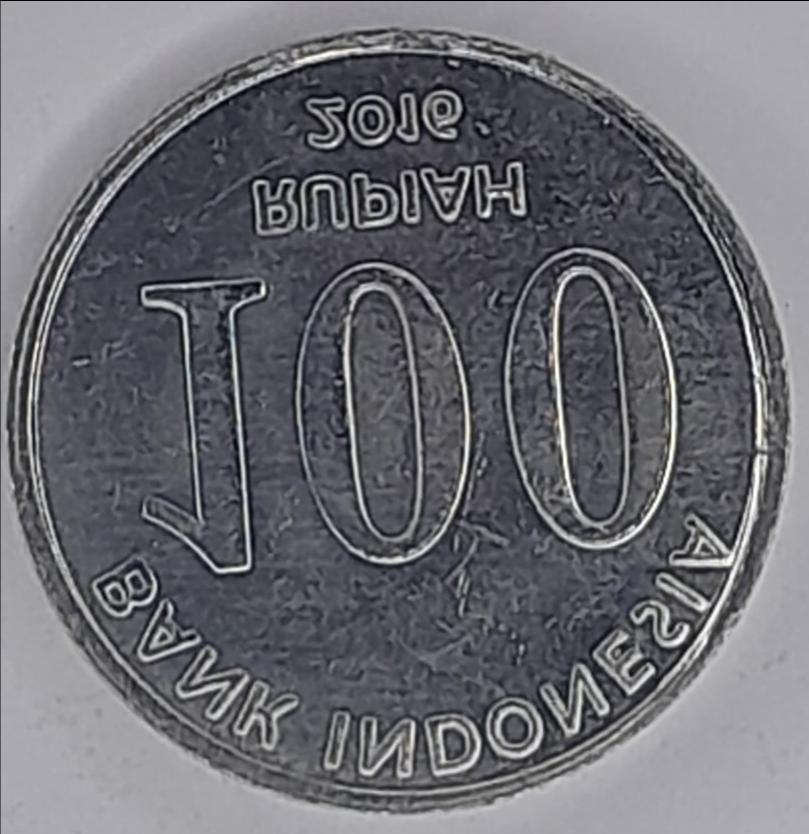coin_100_e2016: (2, 21, 798, 816)
